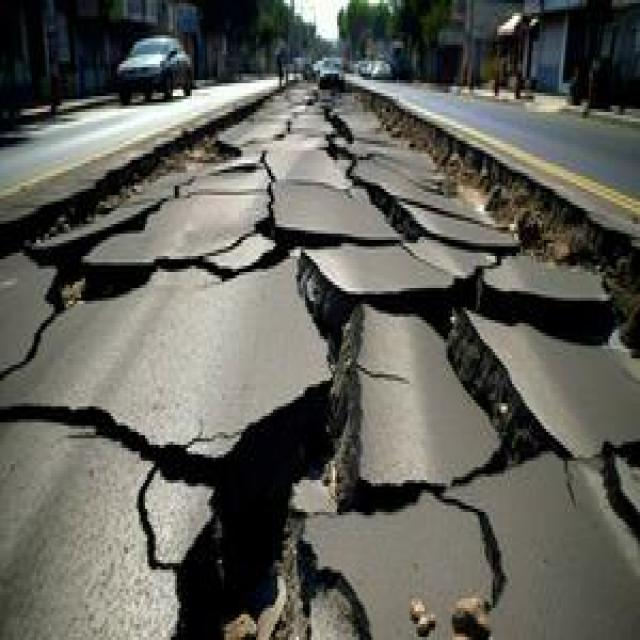road collapse: (1, 66, 640, 640)
